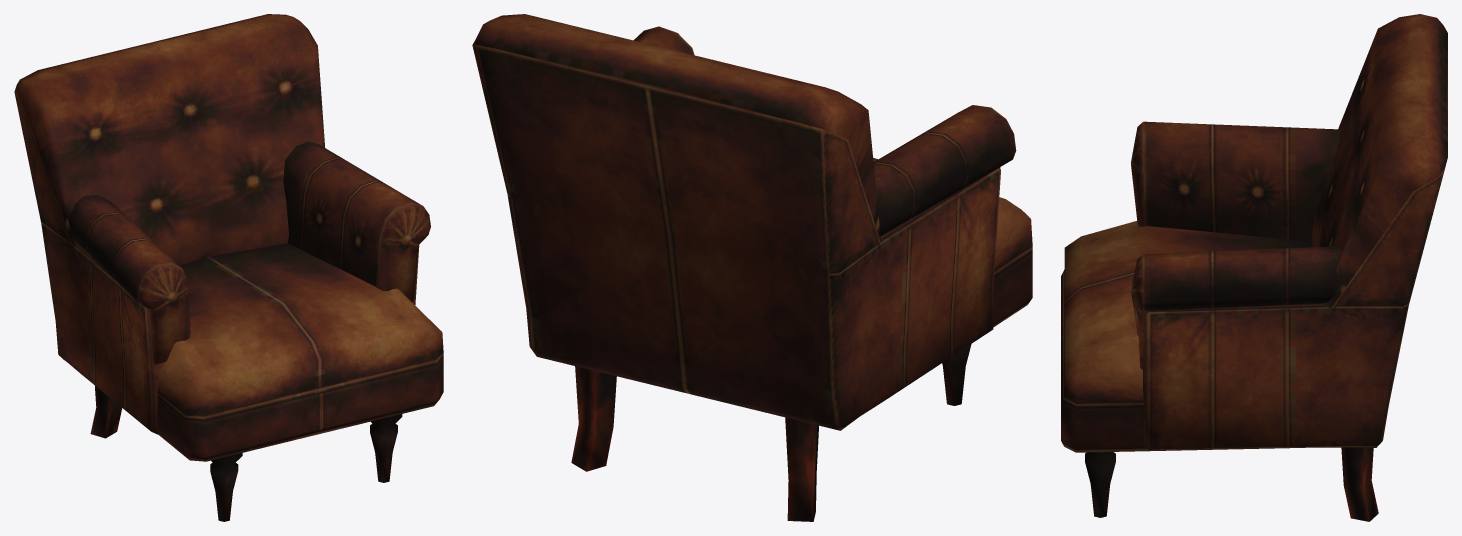
The model's file is Leather_Chair.obj.
The picture shows the model from 3 angles, left to right: view 1: azimuth 30°, elevation 25°; view 2: azimuth 150°, elevation 25°; view 3: azimuth 270°, elevation 25°; orthographic projection. The views are drawn at different scales.
Size of the model in its own units: 1.48 by 1.69 by 1.52.
1 material, 1 textured.
